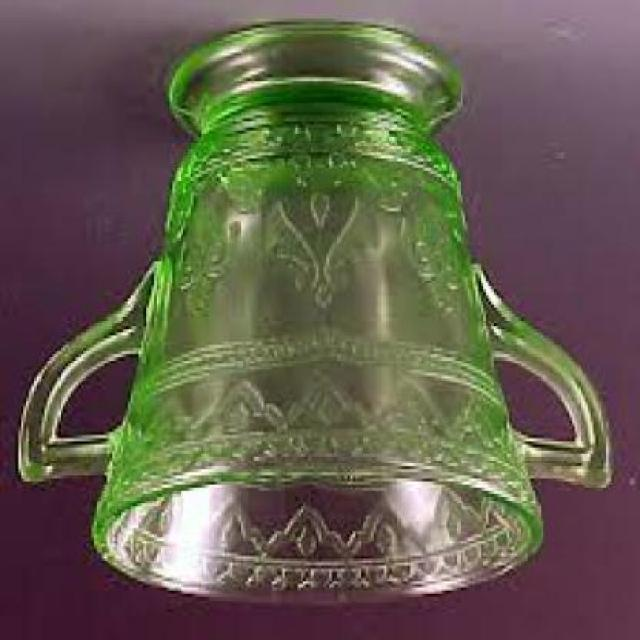GLASS: (16, 25, 610, 606)
